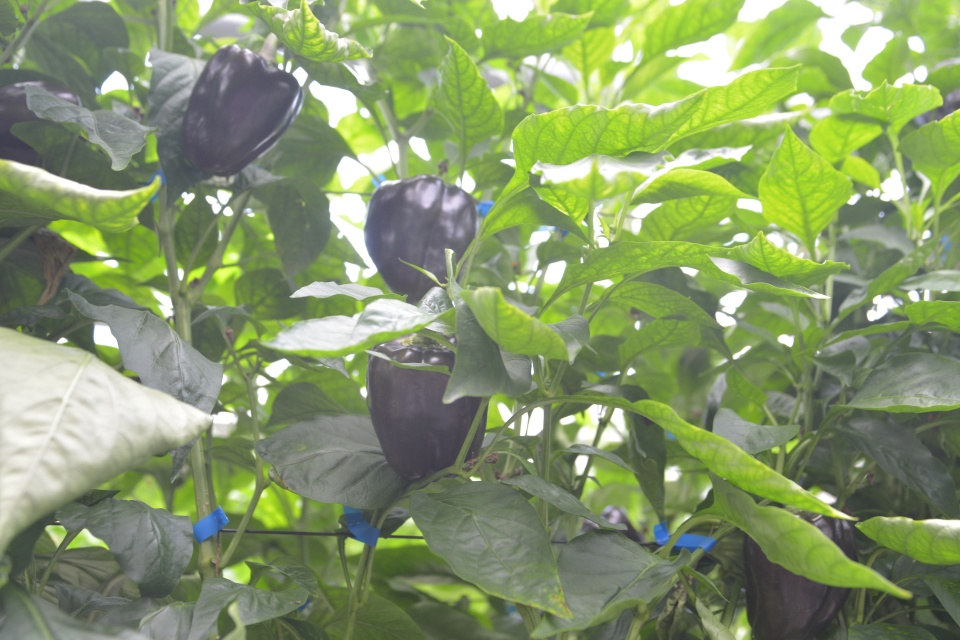fruit: (364, 330, 490, 482), (179, 41, 304, 177), (741, 496, 858, 640), (364, 172, 478, 305), (0, 67, 81, 164)
pedicle: (403, 334, 448, 348)
